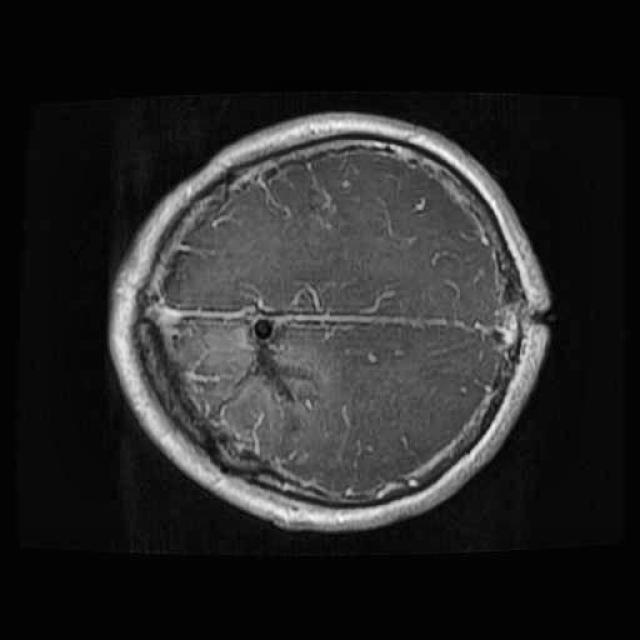Non-Tumor: (231, 314, 316, 418)
